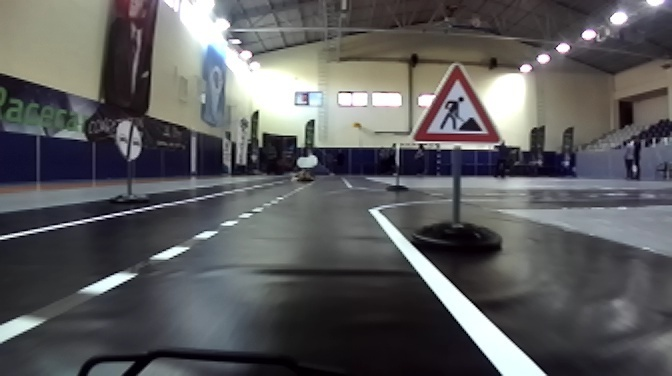yol_yapimi: (405, 71, 505, 146)
